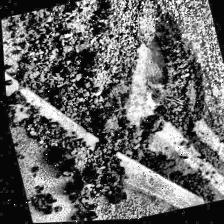pothole: (124, 9, 218, 149)
